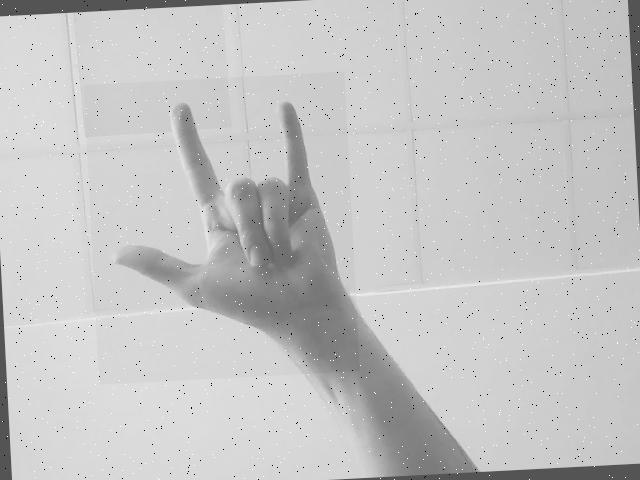I_Love_You: (93, 80, 355, 374)
